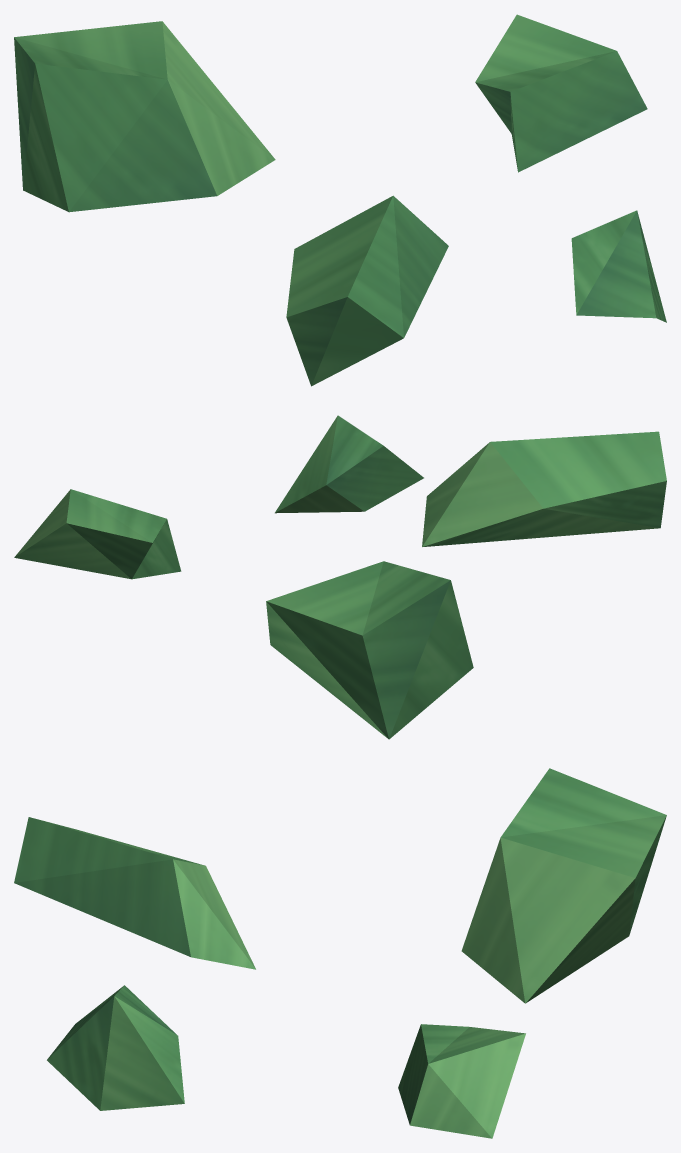
Rendered from Crystal5.fbx.
The picture shows the model from 3 angles, top to bottom: view 1: azimuth 30°, elevation 25°; view 2: azimuth 150°, elevation 25°; view 3: azimuth 270°, elevation 25°; orthographic projection. The views are drawn at different scales.
Visible parts, largest first — view 1: Crystal5; view 2: Crystal5; view 3: Crystal5.
Boxes of the visible parts, x1,y1,x2,y2 form: Crystal5: [14, 14, 666, 386]; Crystal5: [14, 415, 666, 739]; Crystal5: [14, 768, 666, 1138].
Bounding box in the file's own units: 70.23 × 21.61 × 77.27.
1 material, 1 textured.
